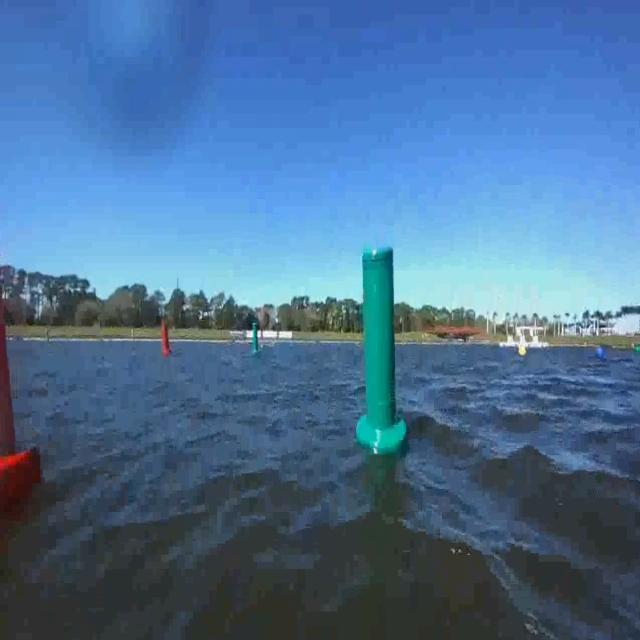blue-buoy: (593, 345, 604, 362)
green-buoy: (634, 345, 640, 354)
green-column-buoy: (354, 242, 404, 456), (250, 322, 262, 358)
red-column-buoy: (0, 285, 39, 487), (158, 321, 170, 358)
yellow-buoy: (518, 344, 528, 358)
